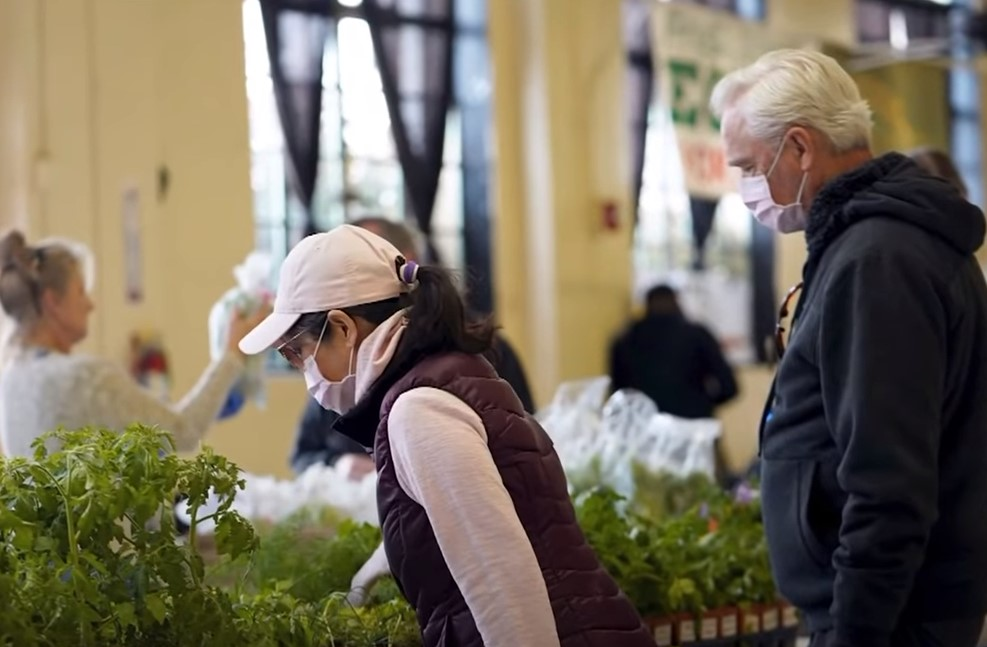face_no_mask: (5, 233, 93, 347)
face_with_mask: (244, 229, 405, 415), (711, 53, 874, 233)
